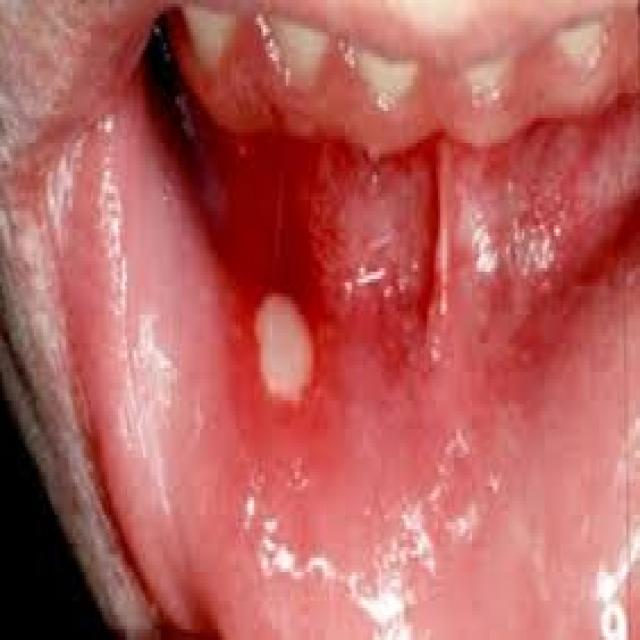processing_area: (36, 2, 638, 636)
ulcer-detection: (224, 258, 362, 444)
